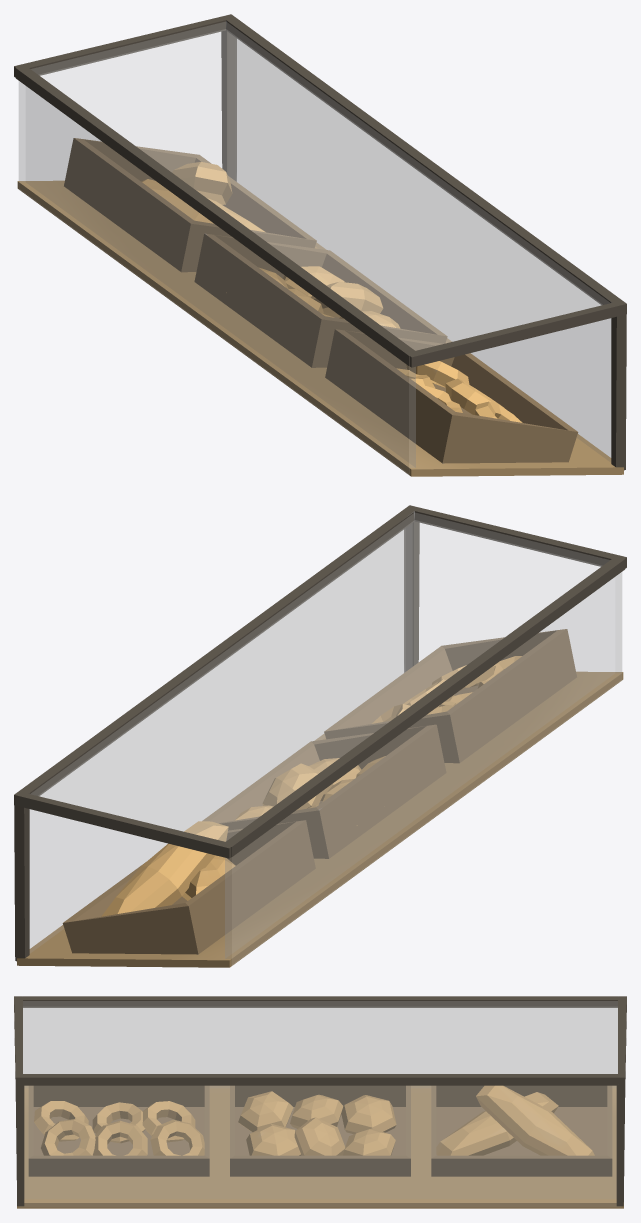
Rendered from toonbank.fbx.
3 renders of one model, top to bottom at view 1: azimuth 30°, elevation 25°; view 2: azimuth 150°, elevation 25°; view 3: azimuth 270°, elevation 25°, orthographic. The views are drawn at different scales.
Visible parts, largest first — view 1: glasstop, glass front, glass back, mandje 1.001, planks, top beams, mandje 1, side beams, front beams, Sphere.008, Sphere.002, Sphere.007 (+2 smaller); view 2: glasstop, glass front, glass back, mandje 1.001, planks, top beams, mandje 1, side beams, front beams, Sphere.008, Sphere.002, Sphere.007; view 3: glass front, glasstop, glass back, planks, mandje 1.001, top beams, mandje 1, Sphere.008, Sphere.007, front beams, Sphere.004, Sphere.005 (+11 smaller).
Part boxes in pixels (x1,y1,x2,y2): glasstop: [31, 22, 609, 350]; glass front: [235, 38, 610, 461]; glass back: [19, 81, 415, 473]; mandje 1.001: [64, 138, 578, 463]; planks: [17, 180, 623, 476]; top beams: [15, 15, 625, 366]; mandje 1: [194, 233, 447, 367]; side beams: [14, 14, 626, 367]; front beams: [221, 20, 626, 470]; Sphere.008: [172, 162, 232, 204]; Sphere.002: [311, 282, 382, 317]; Sphere.007: [141, 179, 264, 231]; glasstop: [31, 513, 609, 841]; glass front: [30, 529, 405, 952]; glass back: [225, 572, 621, 964]; mandje 1.001: [62, 629, 576, 954]; planks: [17, 671, 623, 967]; top beams: [16, 506, 625, 857]; mandje 1: [202, 724, 446, 858]; side beams: [14, 505, 626, 858]; front beams: [14, 511, 419, 961]; Sphere.008: [101, 821, 228, 916]; Sphere.002: [262, 763, 326, 810]; Sphere.007: [182, 855, 235, 900]; glass front: [24, 1086, 616, 1206]; glasstop: [23, 1001, 617, 1073]; glass back: [23, 1008, 617, 1073]; planks: [17, 1085, 623, 1208]; mandje 1.001: [28, 1085, 612, 1176]; top beams: [17, 996, 623, 1085]; mandje 1: [230, 1085, 410, 1176]; Sphere.008: [476, 1085, 594, 1155]; Sphere.007: [436, 1092, 558, 1155]; front beams: [15, 1085, 625, 1206]; Sphere.004: [341, 1095, 396, 1133]; Sphere.005: [238, 1091, 293, 1132].
Size of the model in its own units: 190 by 143 by 604.
